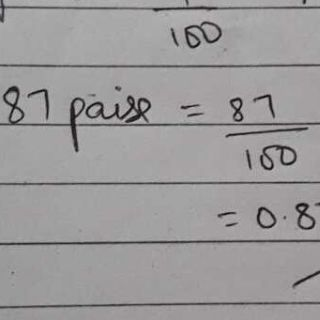.: (281, 213, 288, 221)
0: (253, 204, 278, 231)
1: (243, 145, 255, 172)
7: (25, 84, 52, 120), (251, 90, 279, 118)
8: (1, 83, 25, 124), (294, 200, 316, 232), (227, 94, 245, 124)
